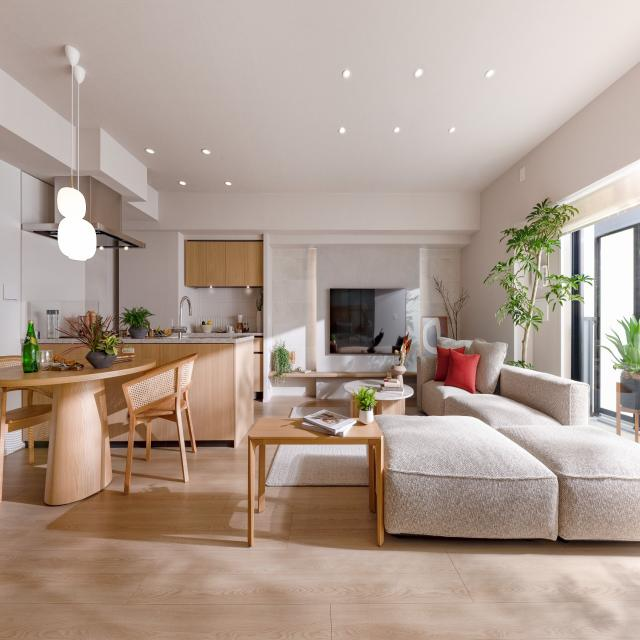natural chair: (122, 353, 203, 488)
natural desk: (3, 357, 153, 494), (246, 414, 384, 546)
natural sofa: (413, 354, 640, 543)
